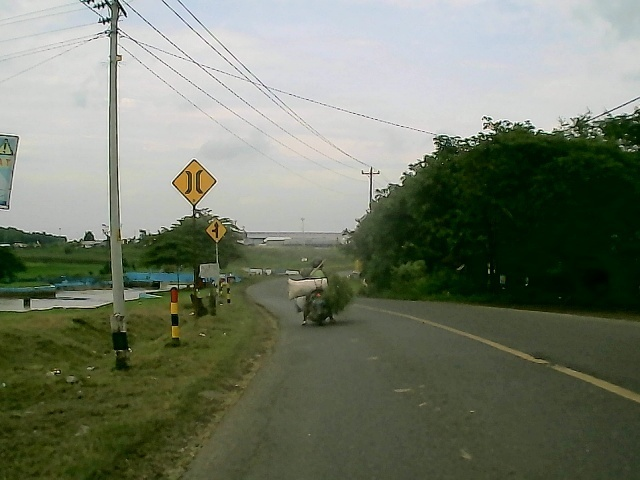Jembatan: (168, 155, 219, 208)
Simpang kiri dengan prioritas: (205, 217, 229, 244)
